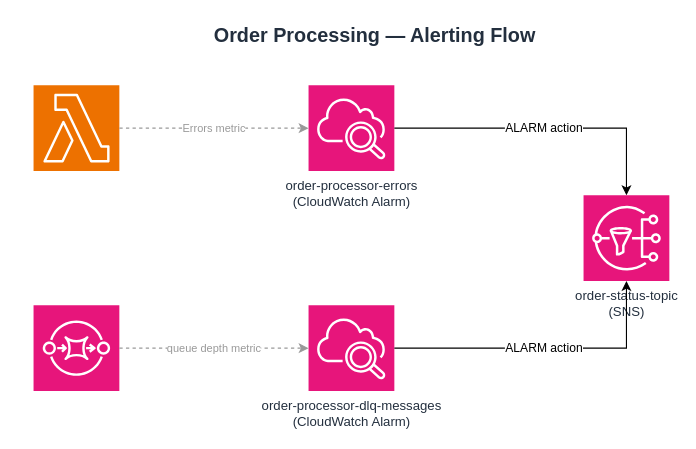
The diagram is 696 pixels wide and 449 high, and some of its shapes have lost their labels. Each missing label, with the box of its shape:
order-processor (Lambda): (32, 84, 119, 171)
order-processor-dlq (SQS): (32, 304, 119, 391)
